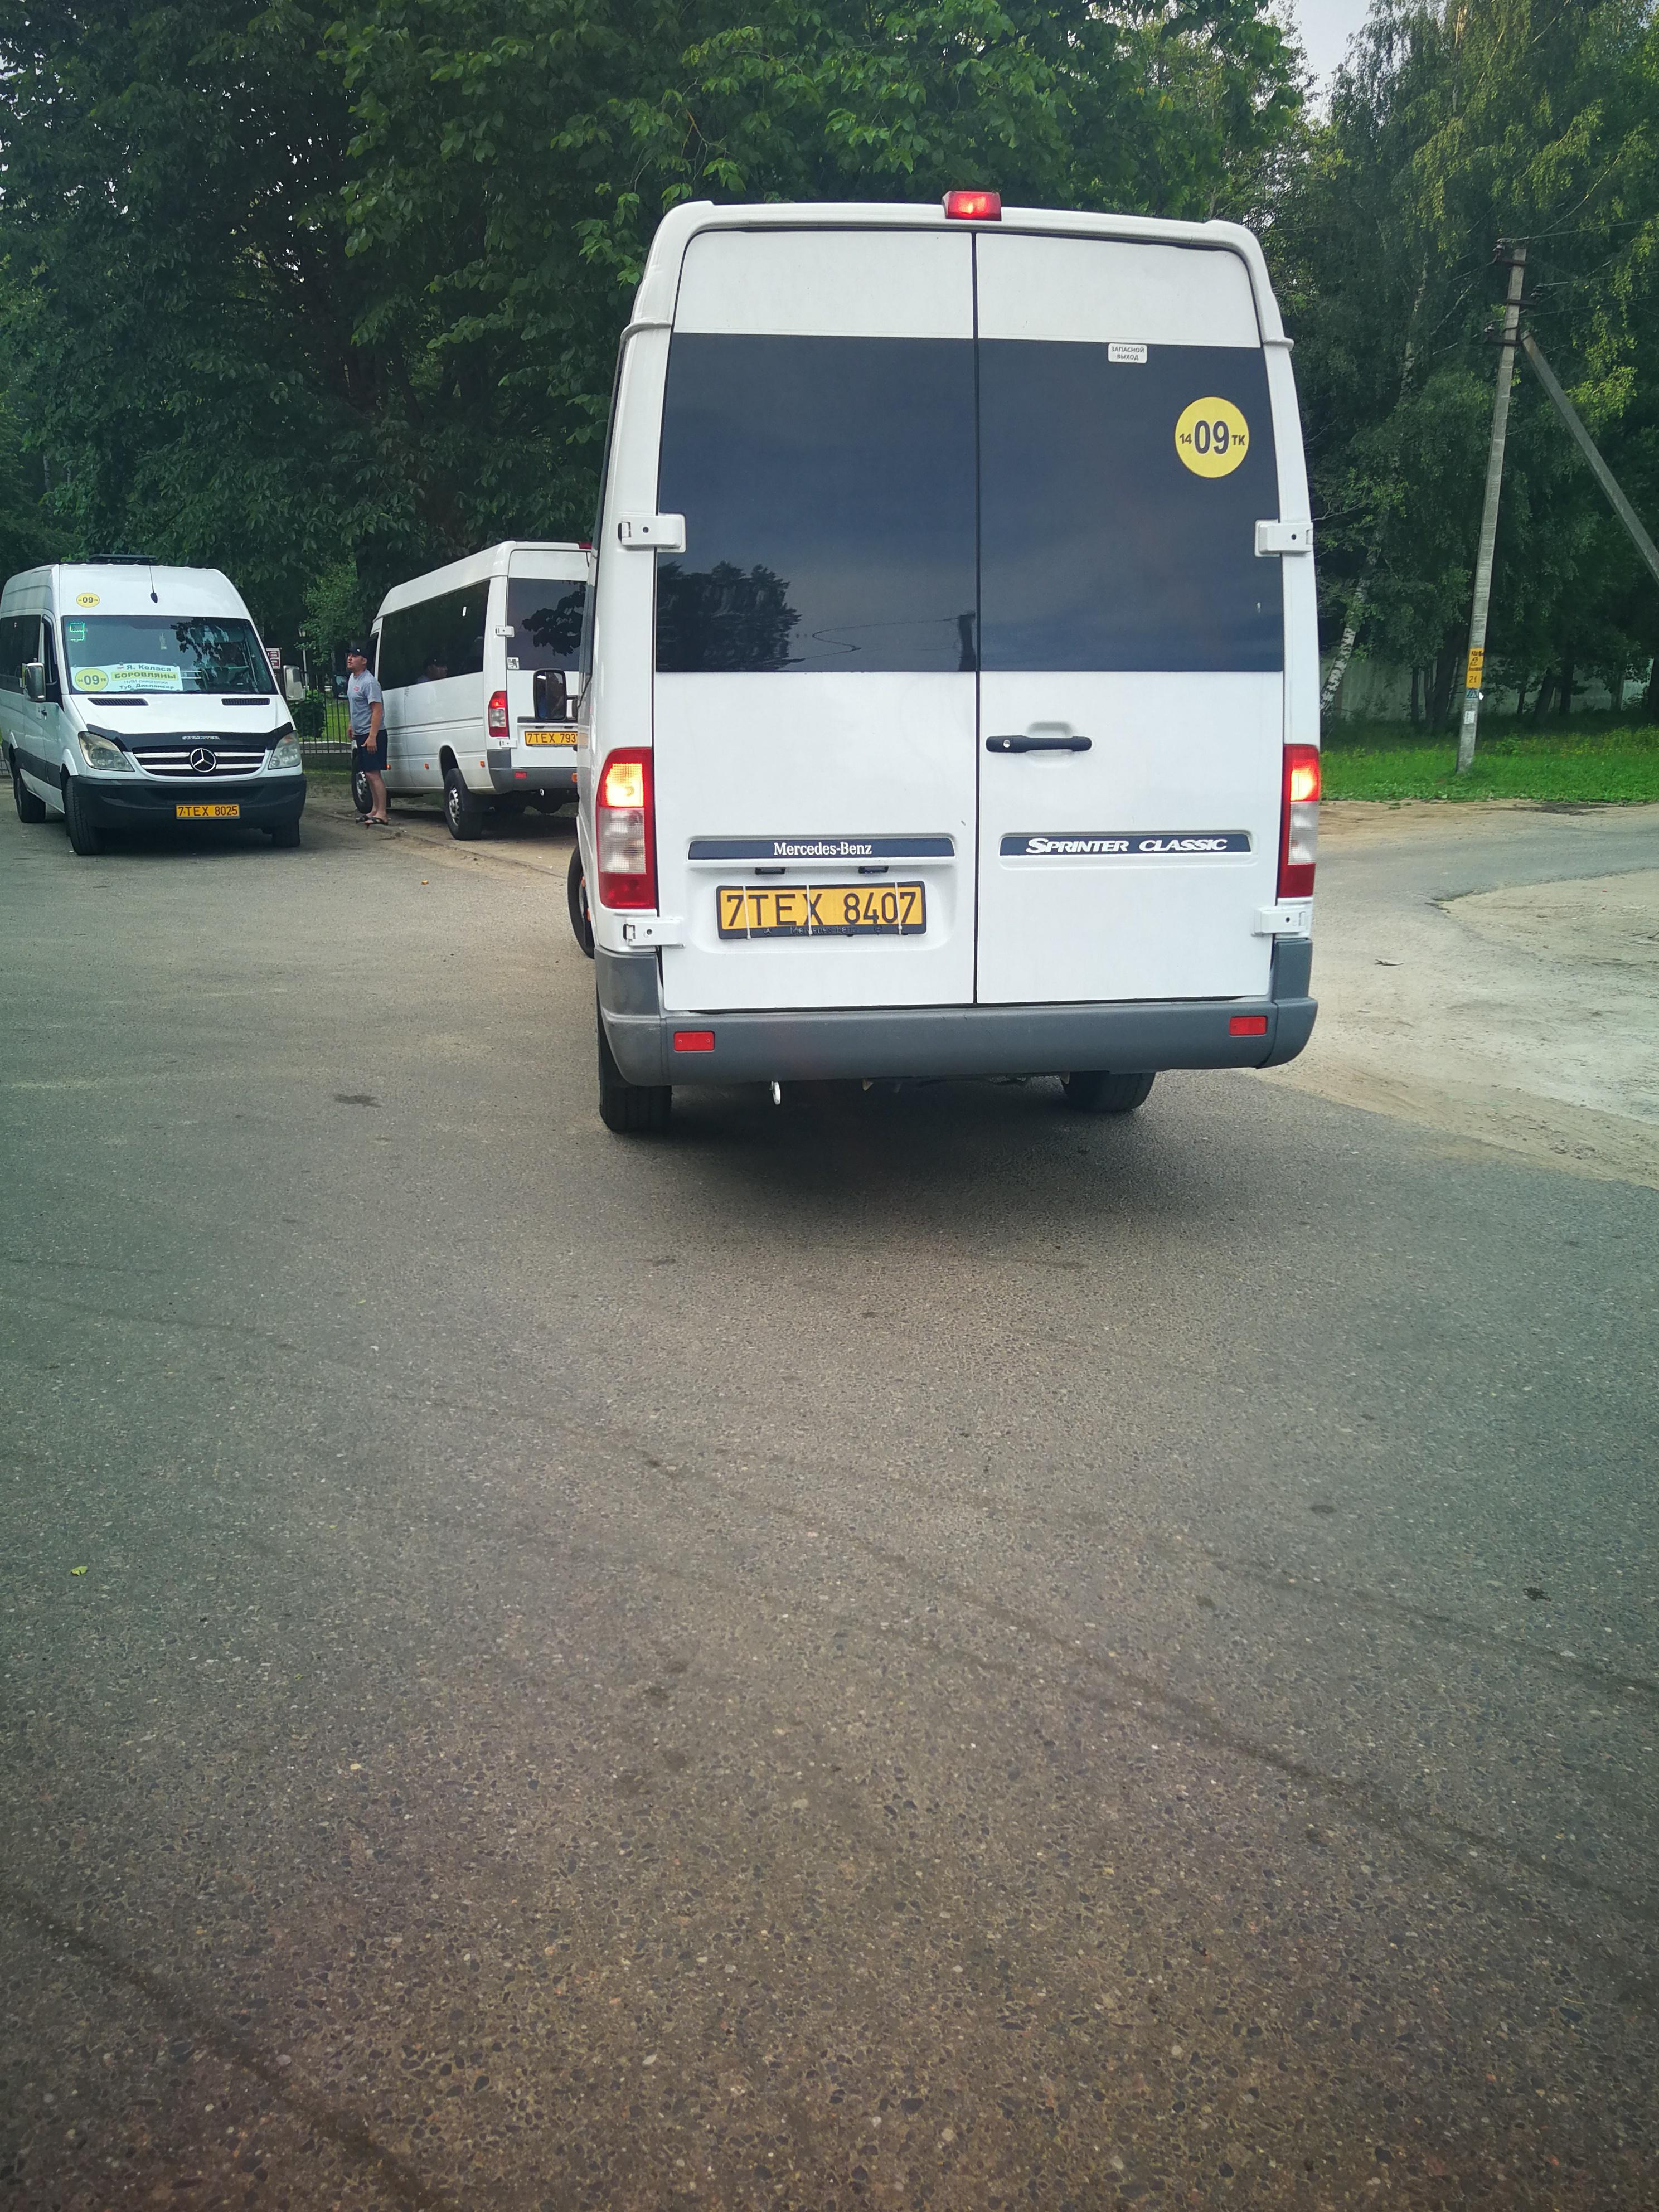van: (568, 190, 1319, 1144), (3, 557, 308, 864), (345, 538, 580, 848)
